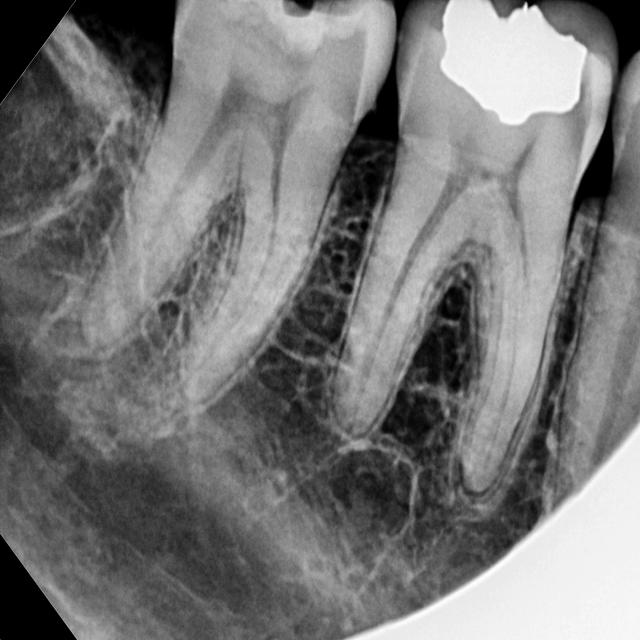Restoration: (418, 0, 604, 161)
